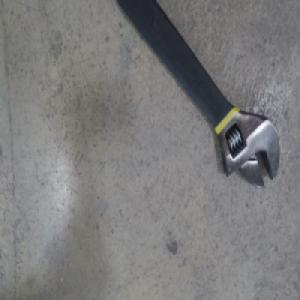AdjustableWrench: (119, 0, 281, 193)
